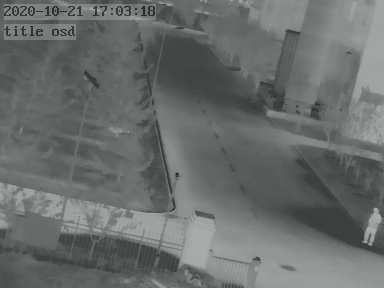person: (365, 205, 381, 243)
